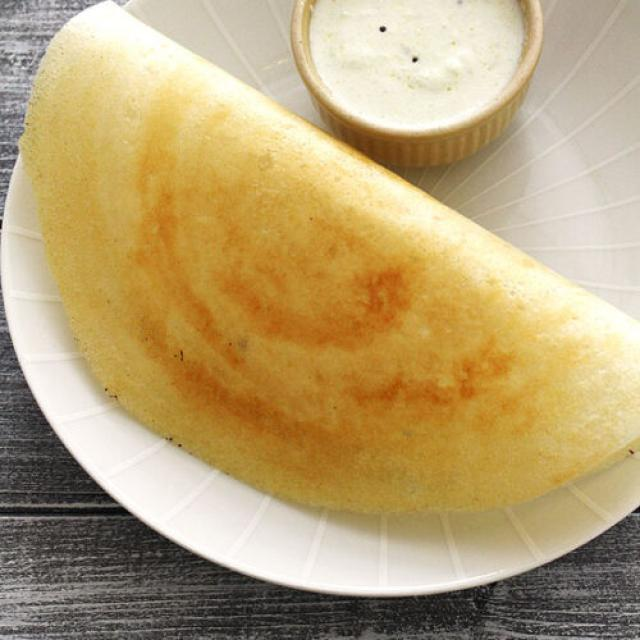chutney: (282, 0, 542, 156)
dosa: (23, 0, 639, 549)
